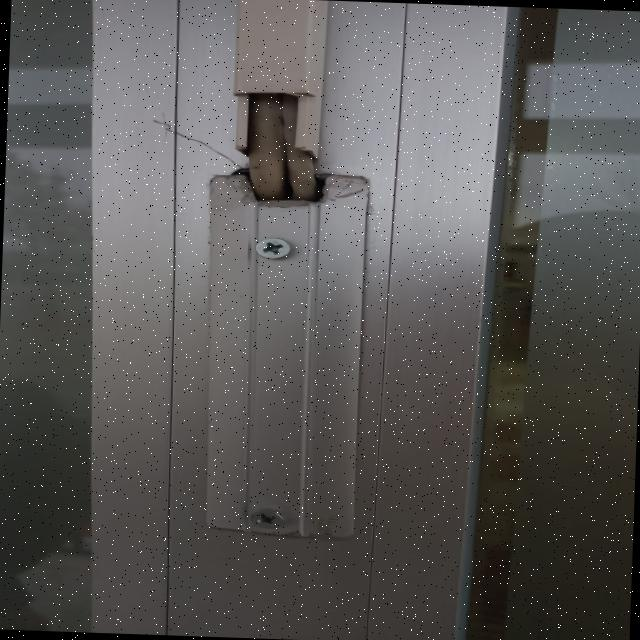Phillips: (240, 507, 300, 538), (245, 236, 302, 264)
